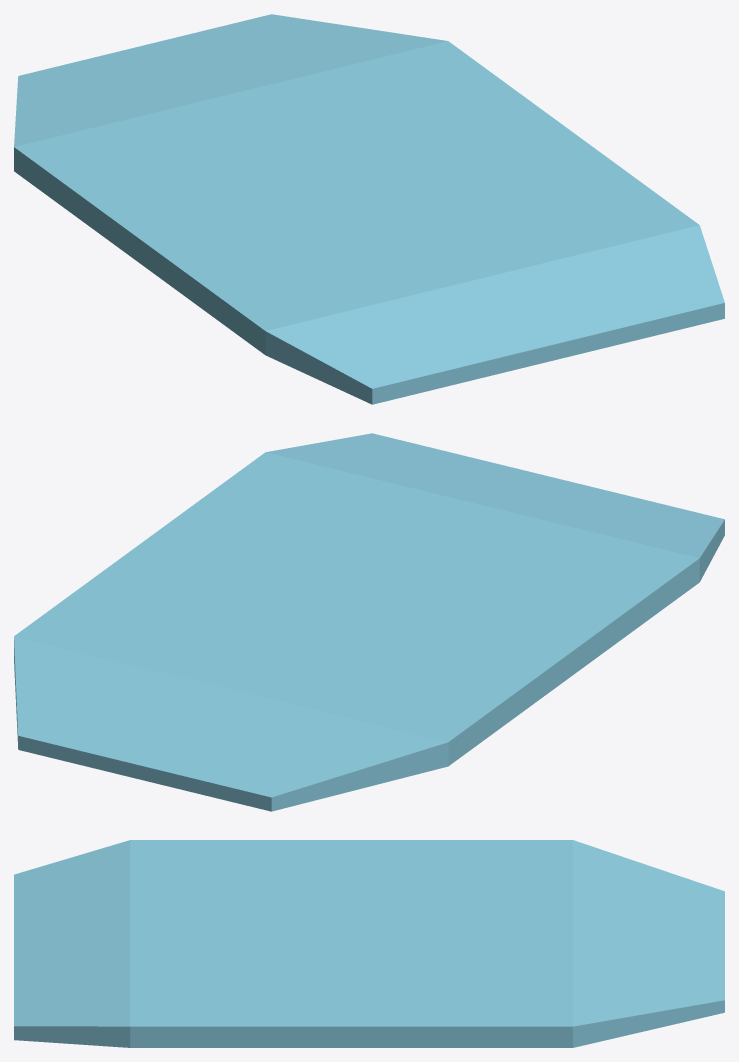
Rendered from RoboShield.fbx.
3 views of the same model, one above another, from view 1: azimuth 30°, elevation 25°; view 2: azimuth 150°, elevation 25°; view 3: azimuth 270°, elevation 25° (orthographic). The views are drawn at different scales.
Parts seen in each view (by area): view 1: Cube; view 2: Cube; view 3: Cube.
Part boxes in pixels (x1,y1,x2,y2): Cube: (14, 14, 724, 404); Cube: (14, 433, 724, 811); Cube: (14, 840, 724, 1047).
Size of the model in its own units: 253 by 19.67 by 408.
